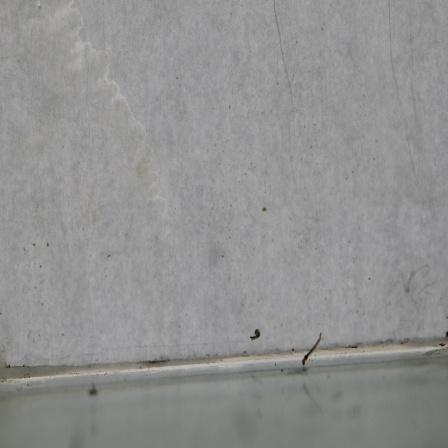Jentik-Nyamuk: (299, 329, 327, 369), (246, 323, 264, 345)
